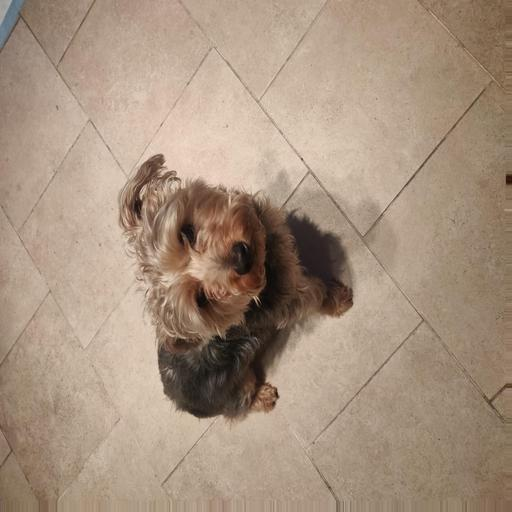dog: (109, 155, 344, 390)
